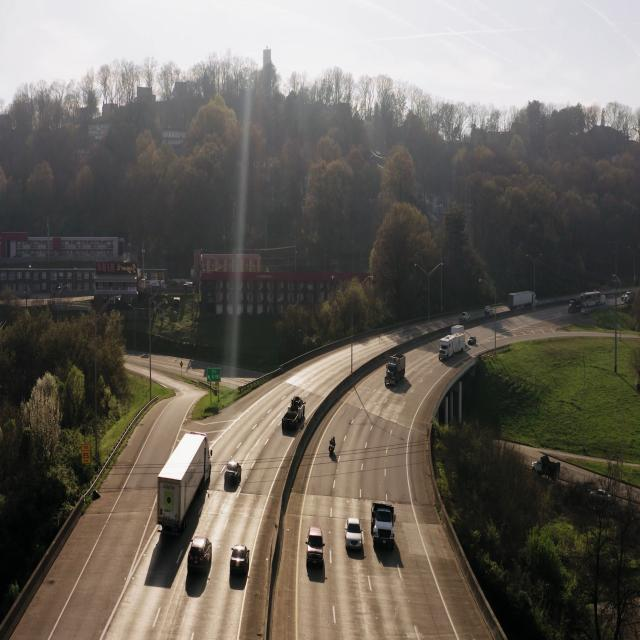Car: (155, 432, 211, 534), (369, 501, 395, 549), (280, 394, 307, 440), (186, 536, 212, 578), (306, 524, 325, 577), (228, 544, 249, 580), (344, 516, 363, 555), (223, 458, 242, 492)
